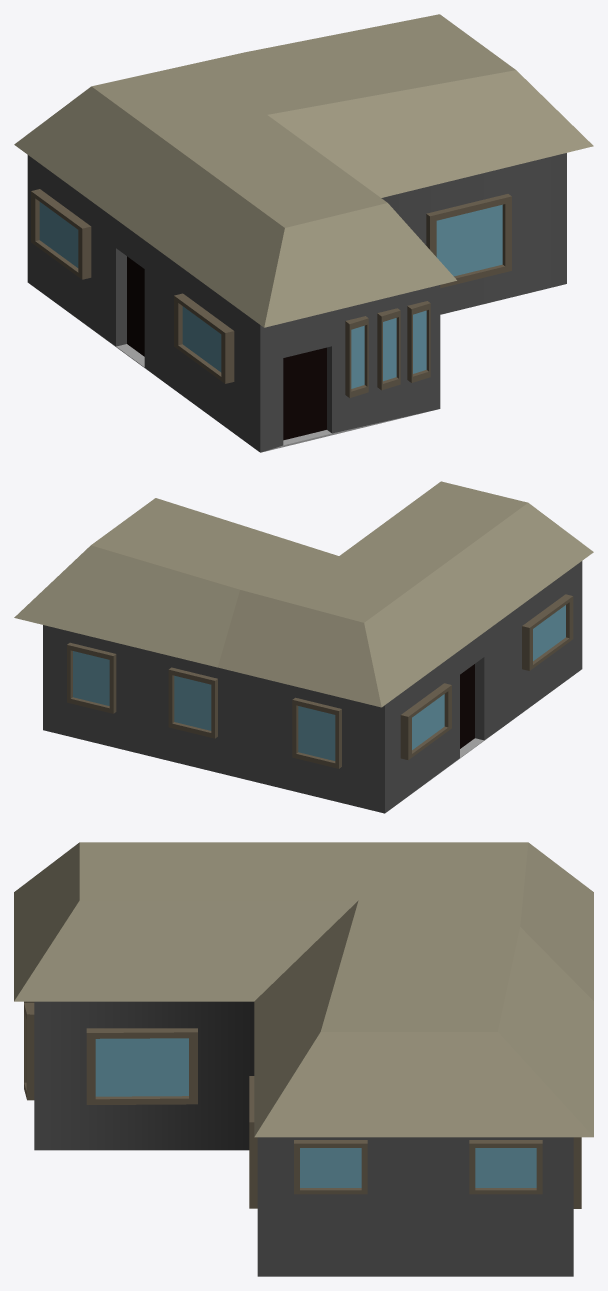
The model's file is house2.fbx.
3 renders of one model, top to bottom at view 1: azimuth 30°, elevation 25°; view 2: azimuth 150°, elevation 25°; view 3: azimuth 270°, elevation 25°, orthographic. The views are drawn at different scales.
Visible parts, largest first — view 1: pCube18; view 2: pCube18; view 3: pCube18.
Part boxes in pixels (bbox=[...]): pCube18: bbox=[14, 14, 593, 452]; pCube18: bbox=[14, 481, 593, 813]; pCube18: bbox=[14, 842, 593, 1276].
Size of the model in its own units: 12.16 by 5.27 by 11.96.
